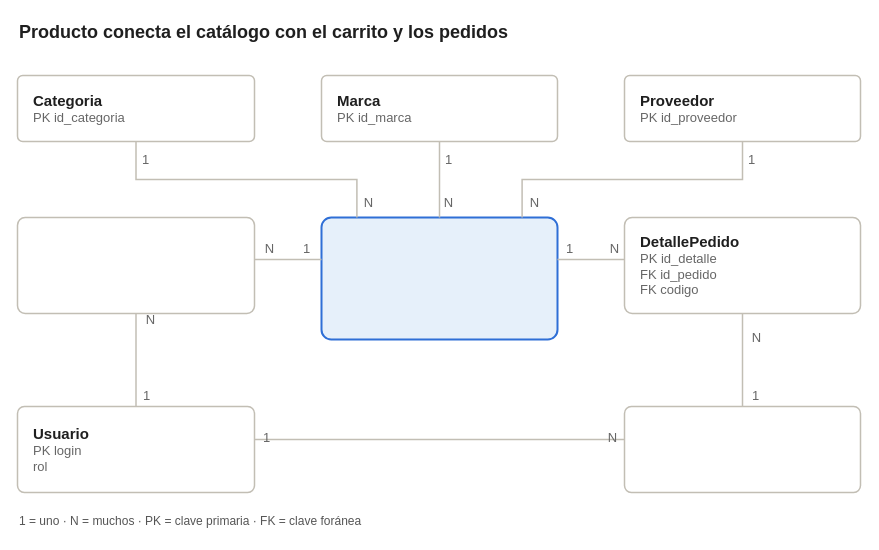
Image size: 879x550. Some labels were removed from this diagram. The box of each missing label's shape, as (x1, y1, x2, y2) in pixels:
Carrito PK, FK login PK, FK codigo: (16, 216, 255, 314)
Pedido PK id_pedido FK login: (623, 405, 861, 493)
Producto PK codigo FK id_marca FK id_categoria FK id_proveedor: (320, 216, 558, 340)
